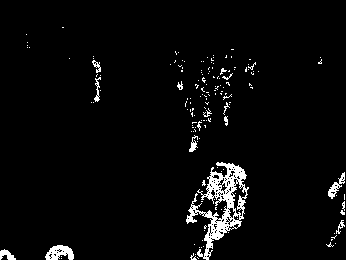person: (186, 81, 213, 153)
